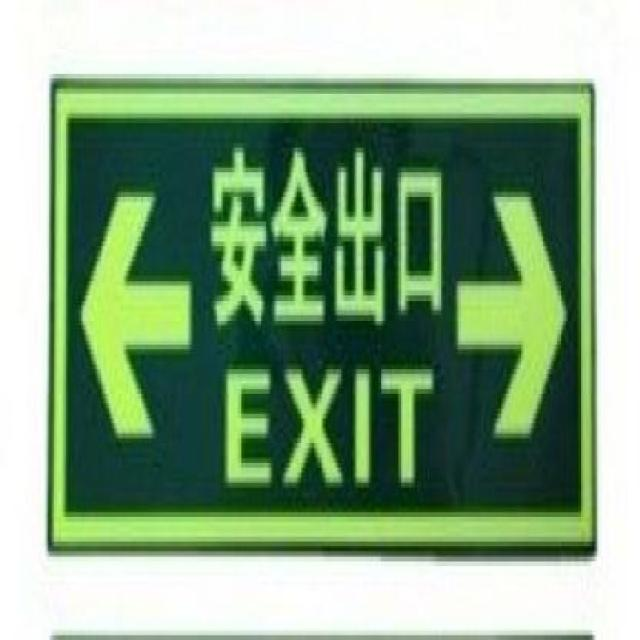exit_sign: (45, 60, 599, 566)
